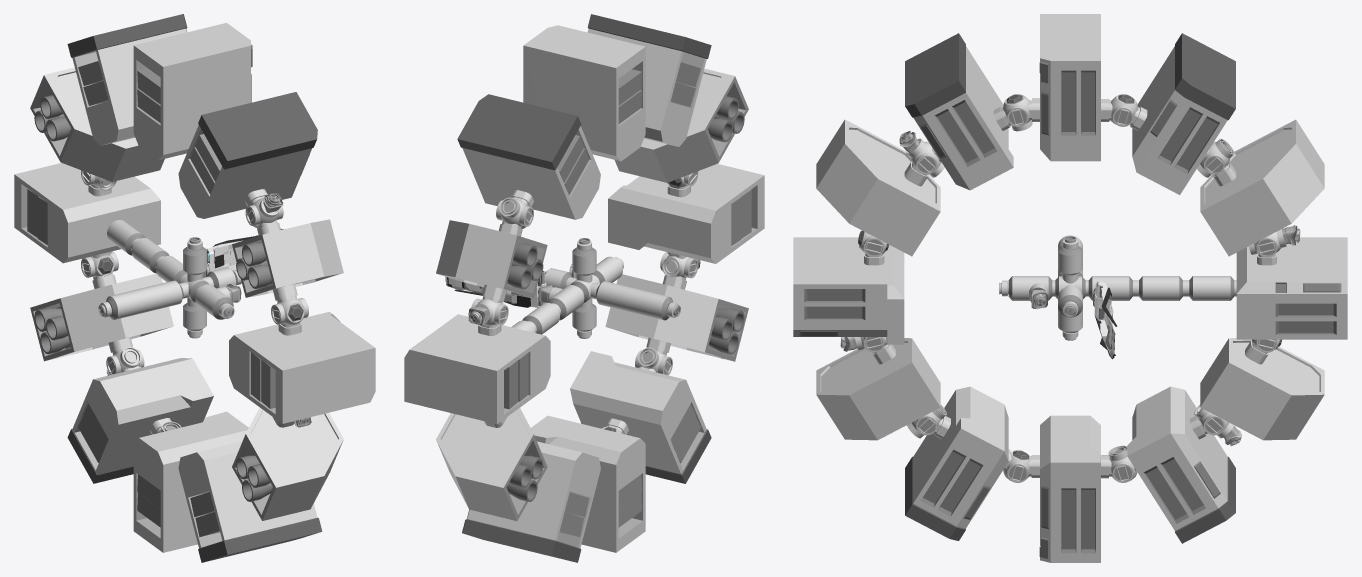
File: endurance + ranger.glb
3 views of the same model, side by side, from view 1: azimuth 30°, elevation 25°; view 2: azimuth 150°, elevation 25°; view 3: azimuth 270°, elevation 25° (orthographic). The views are drawn at different scales.
Parts seen in each view (by area): view 1: EnduranceShip, EnduranceShip.002, EnduranceShip.001, Connector.008, Connector.007, Connector.002, Connector.001, Plane_1; view 2: EnduranceShip, EnduranceShip.002, EnduranceShip.001, Connector.0011, Connector, Connector.006, Connector.005, Plane_1; view 3: EnduranceShip, EnduranceShip.002, EnduranceShip.001, Connector.008, Connector, Connector.002, Plane_1, Connector.0011, Connector.009, Connector.003, Connector.0010, Connector.004.
Boxes of the visible parts, x1=… form: EnduranceShip: x1=14, y1=14, x2=375, y2=562; EnduranceShip.002: x1=34, y1=95, x2=272, y2=501; EnduranceShip.001: x1=88, y1=184, x2=301, y2=434; Connector.008: x1=245, y1=193, x2=283, y2=228; Connector.007: x1=271, y1=298, x2=308, y2=325; Connector.002: x1=106, y1=347, x2=144, y2=375; Connector.001: x1=81, y1=251, x2=118, y2=277; Plane_1: x1=206, y1=229, x2=283, y2=270; EnduranceShip: x1=404, y1=14, x2=764, y2=562; EnduranceShip.002: x1=506, y1=96, x2=744, y2=501; EnduranceShip.001: x1=478, y1=184, x2=690, y2=434; Connector.0011: x1=496, y1=197, x2=533, y2=229; Connector: x1=468, y1=298, x2=508, y2=325; Connector.006: x1=660, y1=252, x2=700, y2=278; Connector.005: x1=635, y1=347, x2=672, y2=375; Plane_1: x1=445, y1=271, x2=545, y2=307; EnduranceShip: x1=793, y1=14, x2=1347, y2=562; EnduranceShip.002: x1=1001, y1=235, x2=1236, y2=338; EnduranceShip.001: x1=864, y1=98, x2=1276, y2=478; Connector.008: x1=899, y1=130, x2=944, y2=177; Connector: x1=1248, y1=225, x2=1299, y2=257; Connector.002: x1=1194, y1=404, x2=1241, y2=446; Plane_1: x1=1094, y1=281, x2=1115, y2=359; Connector.0011: x1=1197, y1=138, x2=1234, y2=177; Connector.009: x1=1003, y1=94, x2=1032, y2=131; Connector.003: x1=1108, y1=445, x2=1137, y2=482; Connector.0010: x1=1111, y1=94, x2=1137, y2=126; Connector.004: x1=1003, y1=450, x2=1031, y2=482.
Bounding box in the file's own units: 24.91 × 54.6 × 54.6.
Materials: 14 (2 with a texture image).
